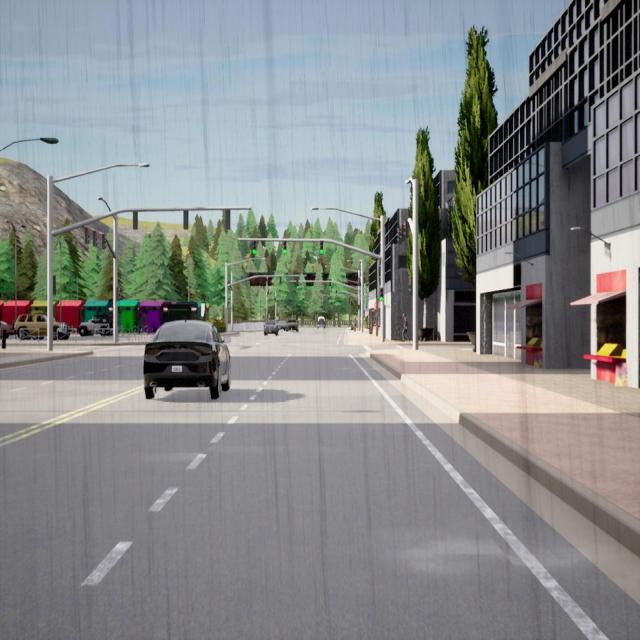Pedestrian: (402, 313, 411, 342), (353, 318, 357, 332)
Traffic_Signs: (276, 316, 279, 320)
Vehicle: (144, 320, 230, 399), (13, 314, 69, 340), (79, 315, 113, 336), (0, 320, 9, 349), (264, 320, 278, 336), (286, 319, 298, 332), (318, 316, 326, 329), (279, 320, 286, 331)
traffic_light: (133, 211, 138, 229), (85, 228, 90, 244), (226, 209, 230, 229), (93, 231, 98, 246), (184, 211, 188, 229), (283, 240, 287, 256), (252, 240, 256, 255), (408, 278, 412, 293), (320, 241, 324, 255), (401, 226, 405, 240), (102, 235, 106, 249), (53, 276, 56, 294), (116, 288, 120, 301), (397, 229, 400, 243), (380, 289, 383, 301), (406, 221, 408, 238), (357, 305, 360, 312), (259, 278, 262, 284), (296, 281, 298, 288), (296, 277, 298, 284), (312, 282, 314, 288), (280, 277, 282, 283), (328, 295, 330, 298), (338, 295, 340, 298), (330, 282, 331, 288), (336, 290, 337, 295)
